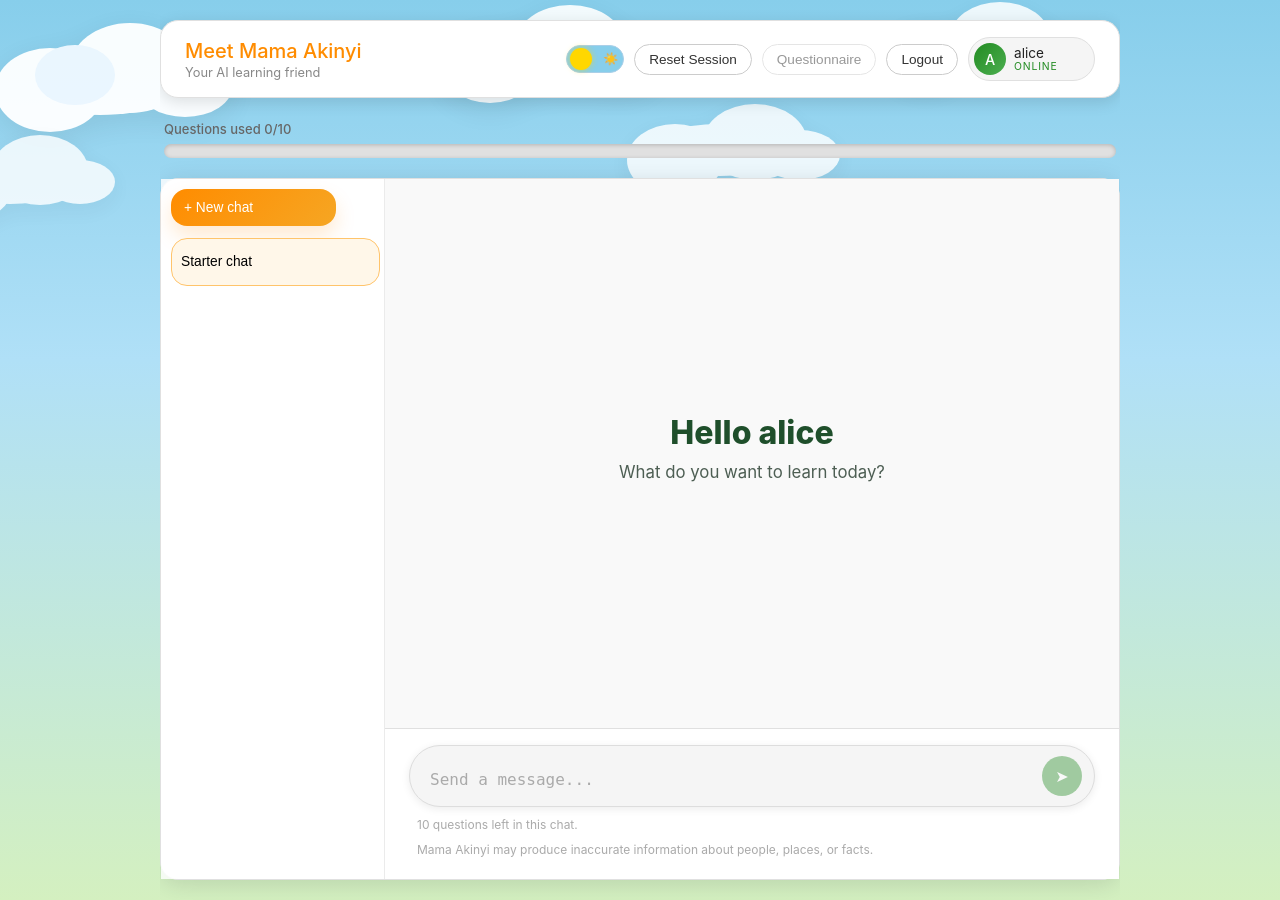
it: handles auth error during send by surfacing message and logging out
Expected: the button "Starter chat" is shown, x1=181 y1=248 x2=333 y2=276
Type "Help" into the text box with placeholder "Send a message...".
click(731, 782); type("Help")  # box x1=430 y1=768 x2=1032 y2=796
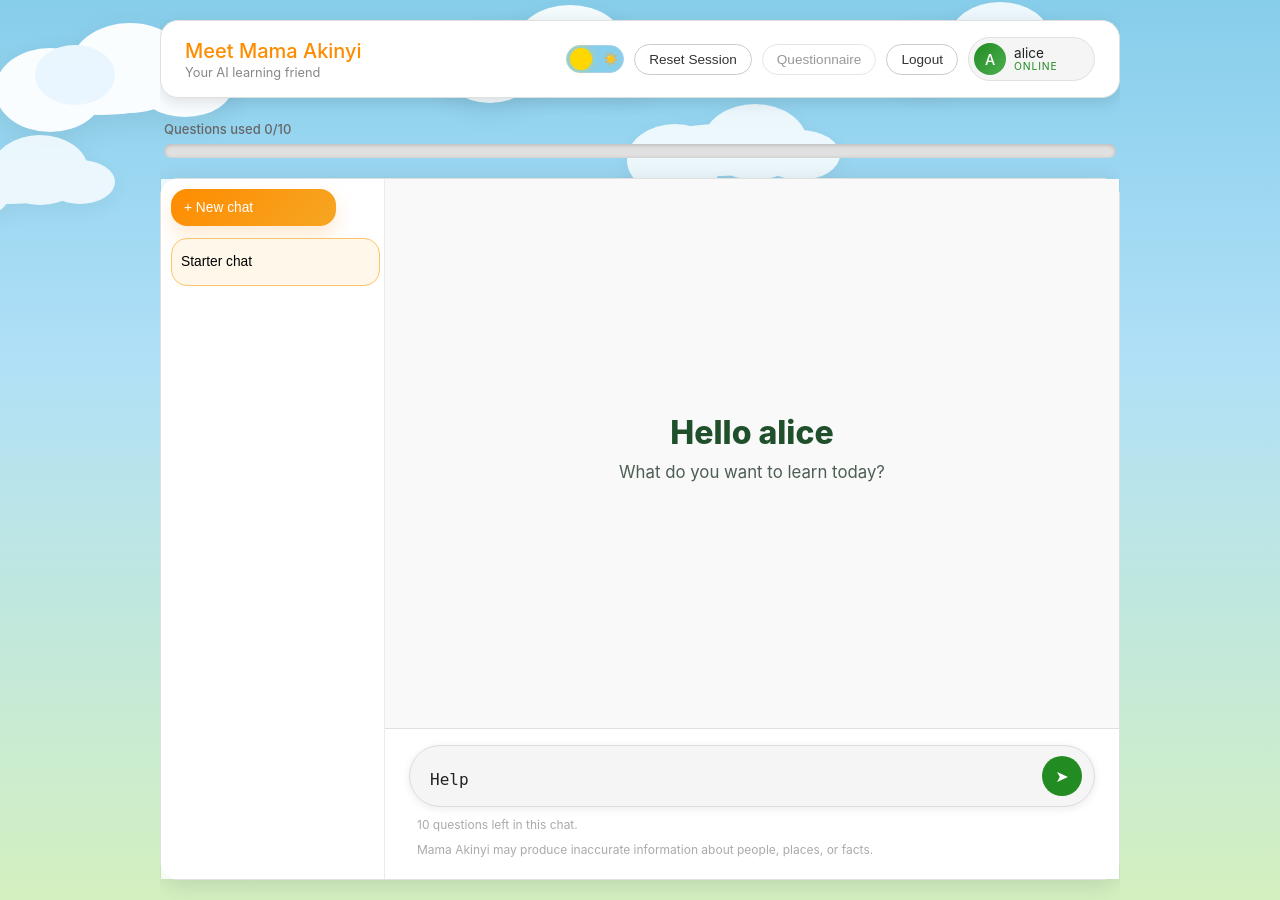
Click the button named "send".
click(1062, 776)  # box x1=1042 y1=756 x2=1082 y2=796
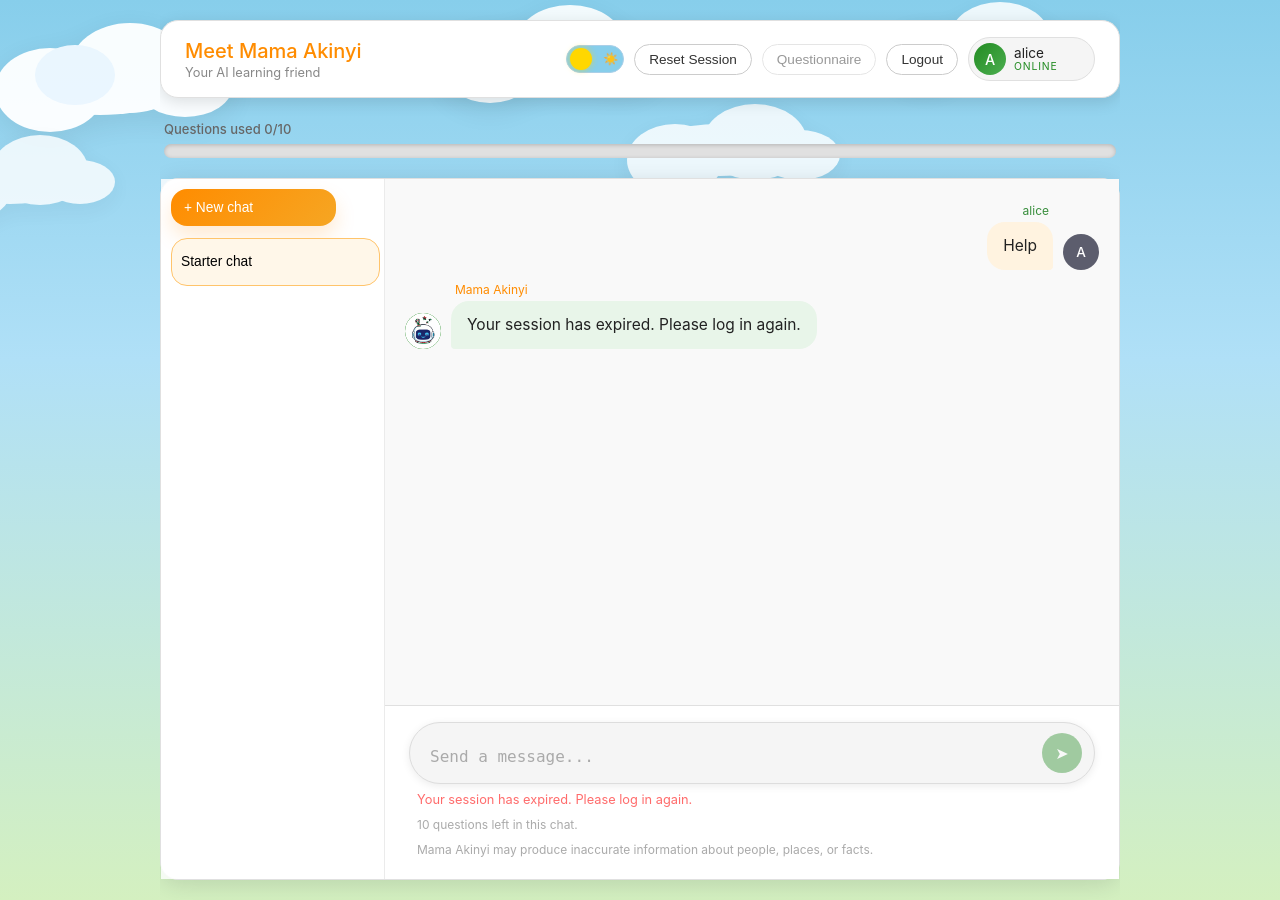
Result: the text "Your session has expired. Please log in again." below "Help" is shown at x1=467 y1=315 x2=801 y2=334
